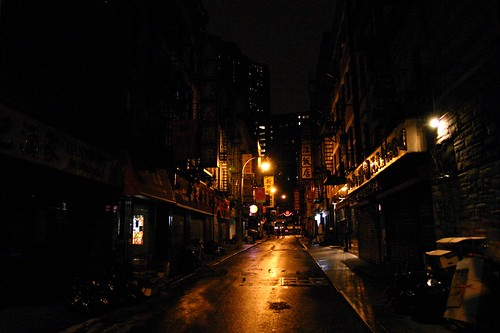building: (1, 1, 258, 333), (345, 1, 500, 323)
street: (106, 236, 377, 333)
